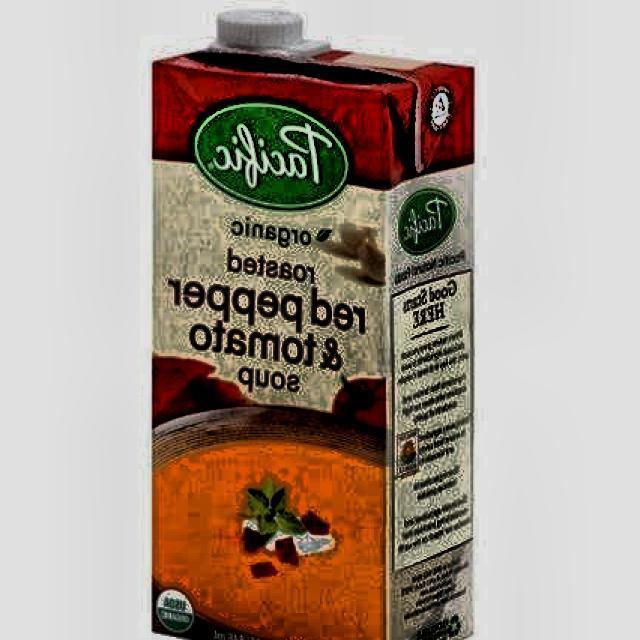cardboard: (150, 9, 478, 640)
